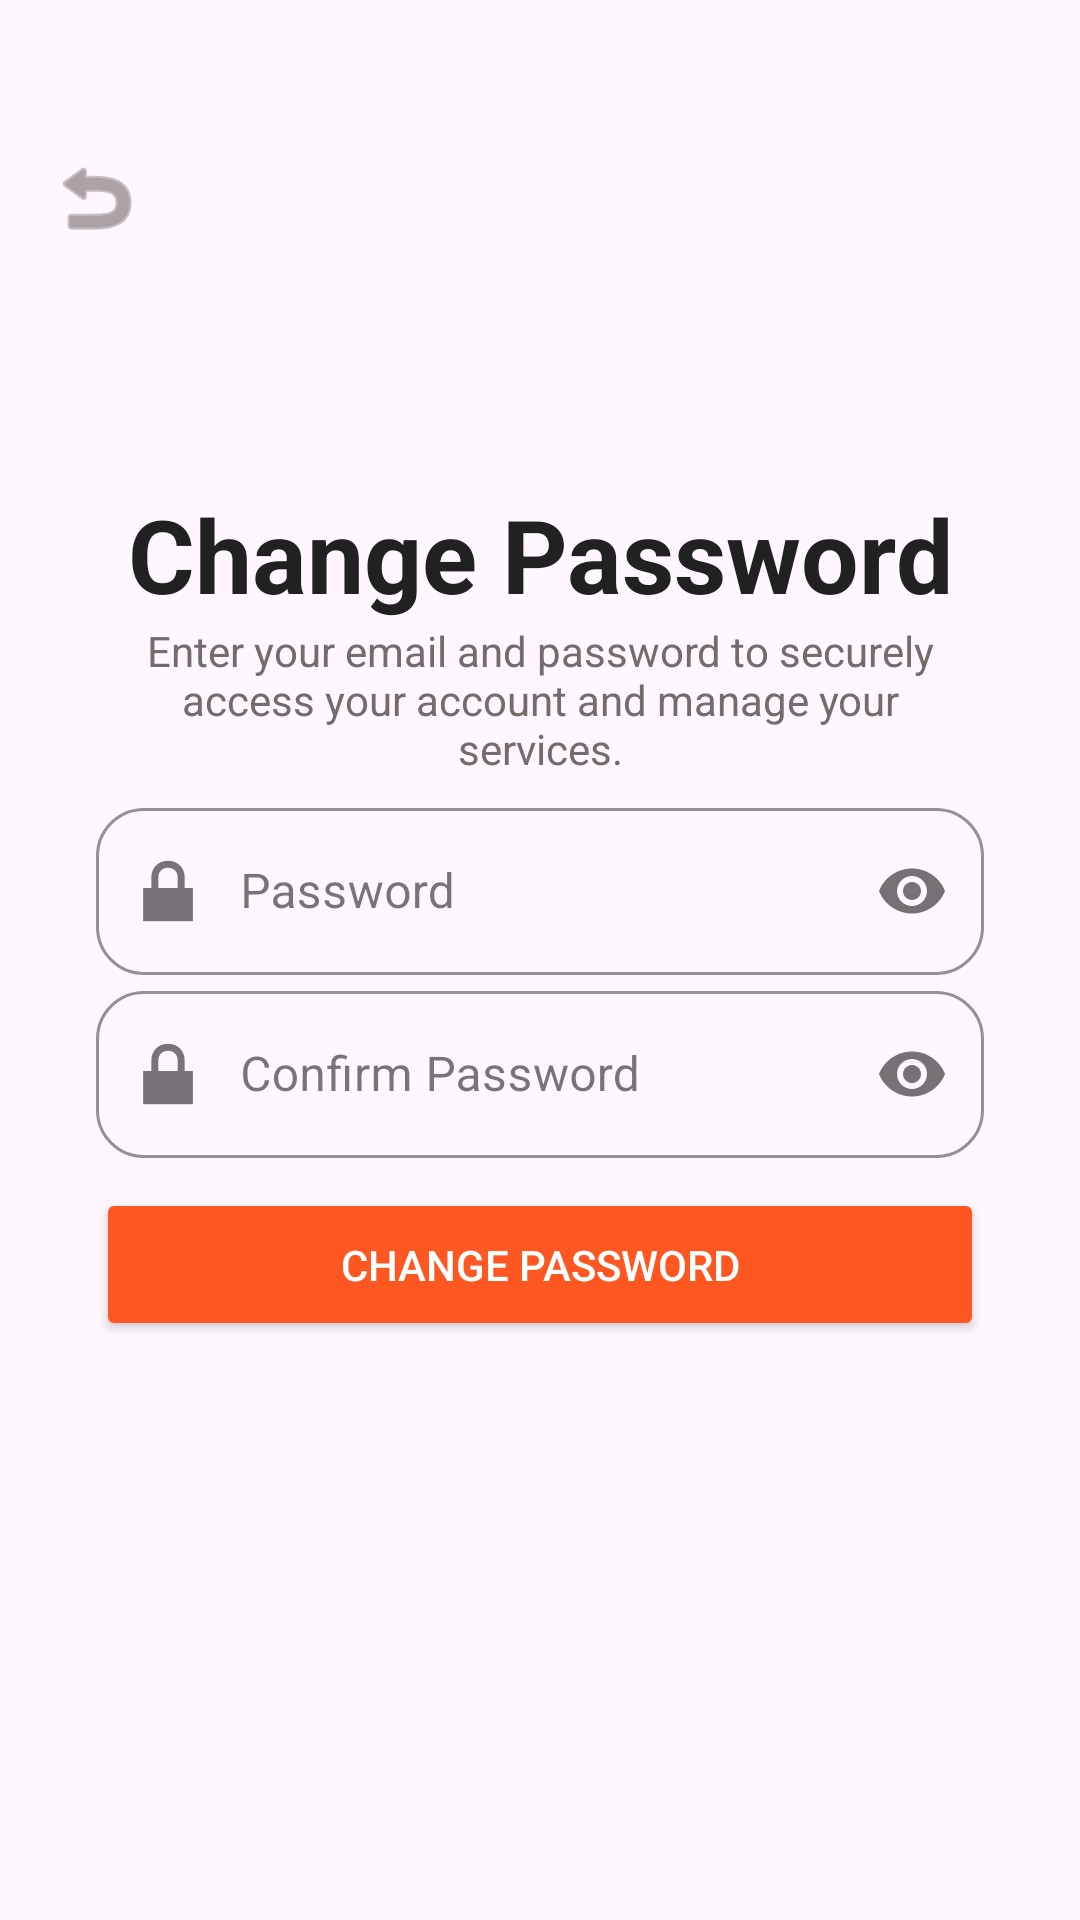

Screen size 1080×1920. Icon name, then its center in pixels as (x,y):
Back button: (97,199)
